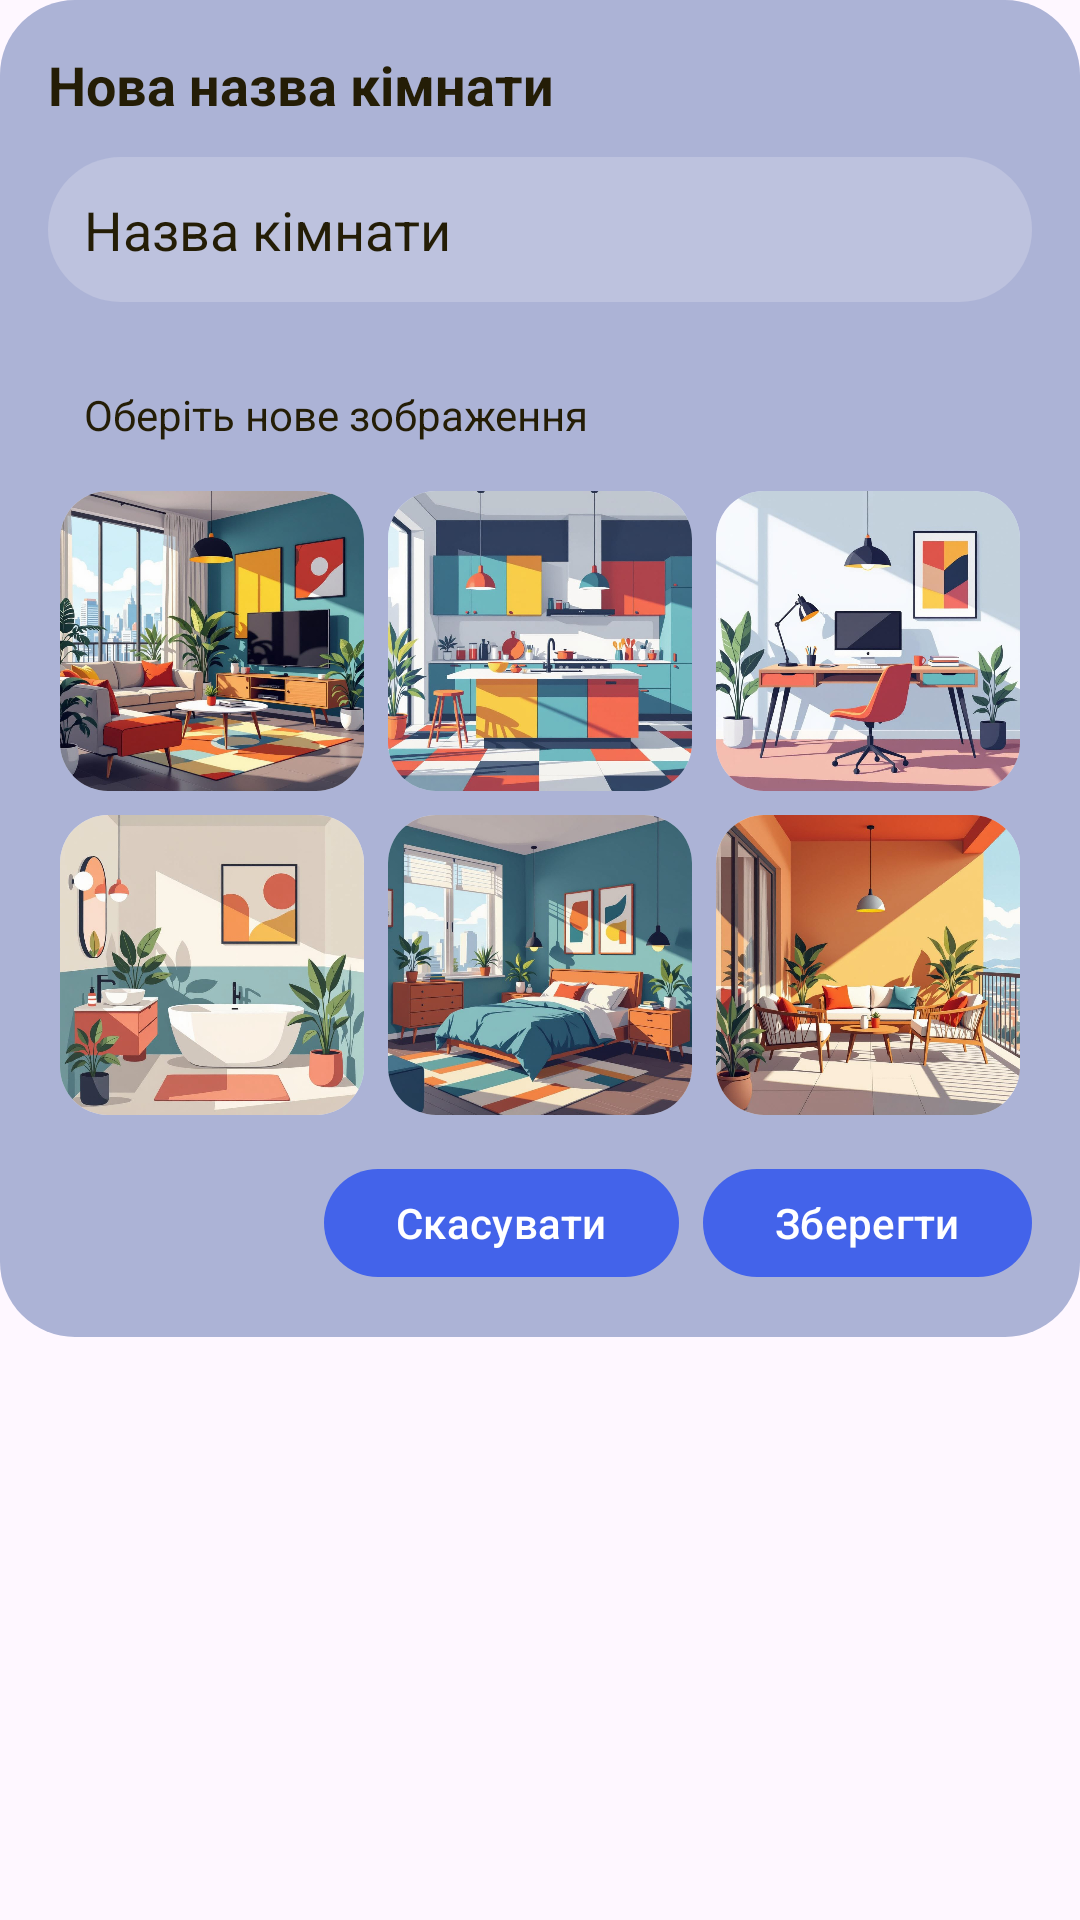

Icon bounding boxes for this 1080 x 1920 phone screenshot, format bbox(x1, y1, x2, y2):
Балкон: bbox(716, 815, 1020, 1115)
Ванна: bbox(60, 815, 364, 1115)
Вітальня: bbox(60, 491, 364, 791)
Кабінет: bbox(716, 491, 1020, 791)
Кухня: bbox(388, 491, 692, 791)
Спальня: bbox(388, 815, 692, 1115)
